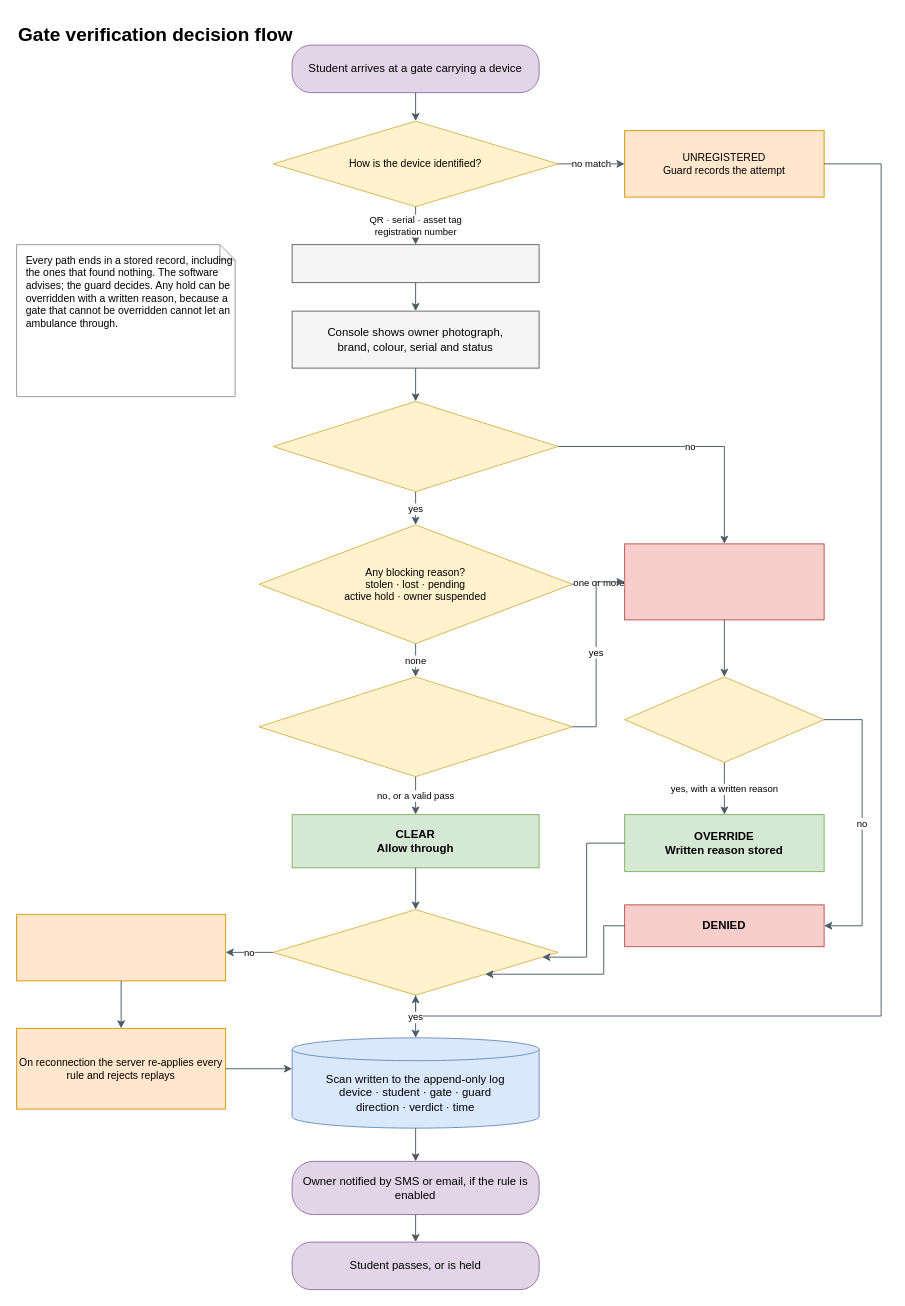
The diagram is 905 pixels wide and 1306 high, and some of its shapes have lost their labels. The shapes that lost their labels are listed below. From the top down, each one's centre as x and y in pixels, then its label:
pixel 415 263: Device record retrieved
pixel 415 446: Does the bearer match the owner photograph?
pixel 724 581: HOLD Guard reads the configured reason
pixel 415 726: Leaving with university property and no valid pass?
pixel 724 719: Guard overrides?
pixel 121 947: Queued locally with an idempotency key
pixel 415 952: Network available?
